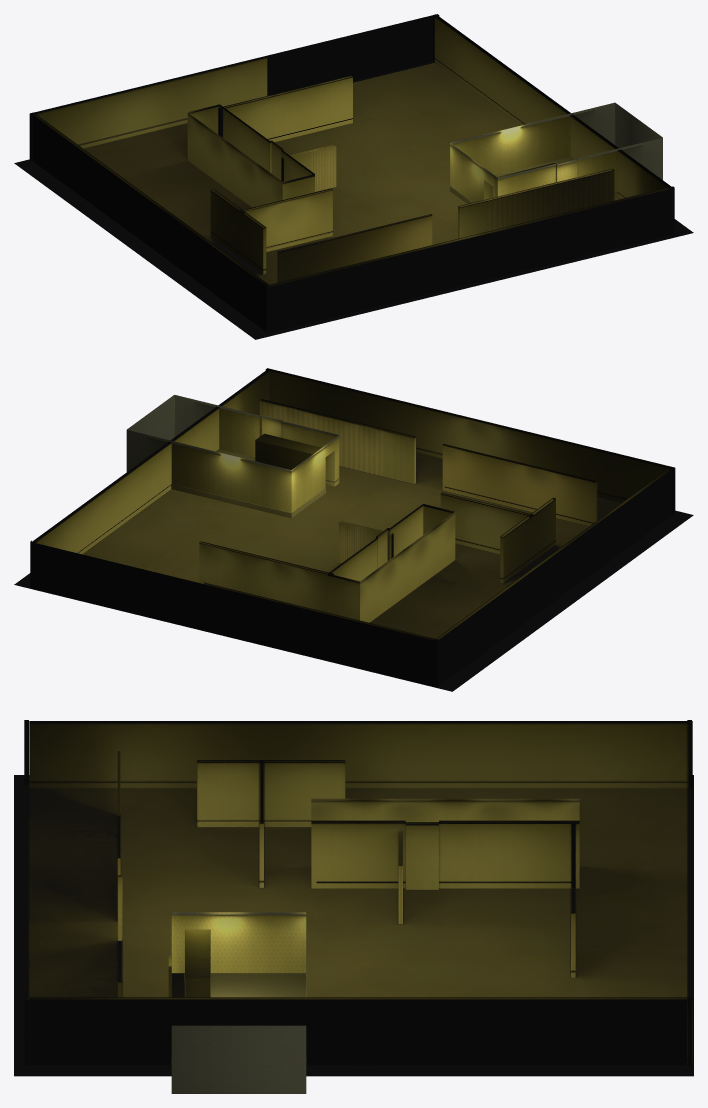
Rendered from backrooms_col.fbx.
The picture shows the model from 3 angles, top to bottom: view 1: azimuth 30°, elevation 25°; view 2: azimuth 150°, elevation 25°; view 3: azimuth 270°, elevation 25°; orthographic projection. The views are drawn at different scales.
Visible parts, largest first — view 1: BackWall_Double_BR.028; view 2: BackWall_Double_BR.028; view 3: BackWall_Double_BR.028.
Part boxes in pixels (x1=…): BackWall_Double_BR.028: x1=14, y1=14, x2=693, y2=339; BackWall_Double_BR.028: x1=14, y1=368, x2=693, y2=691; BackWall_Double_BR.028: x1=14, y1=720, x2=693, y2=1093.
Size of the model in its own units: 91.11 by 9.14 by 82.19.
